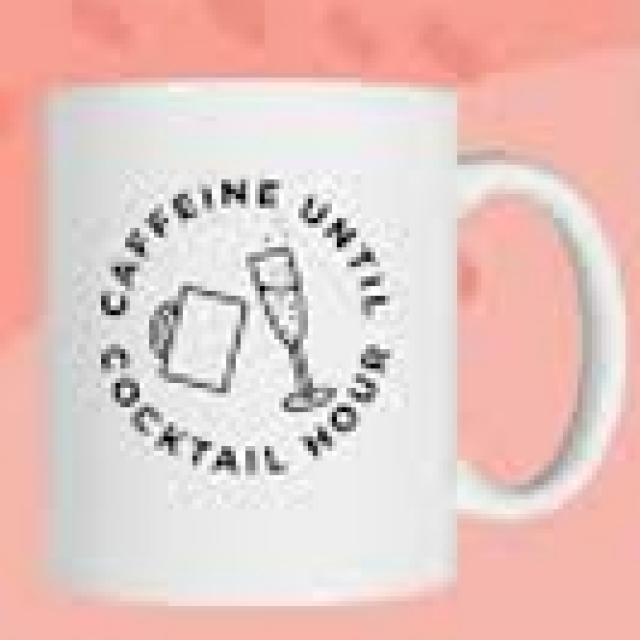taza: (45, 75, 626, 609)
